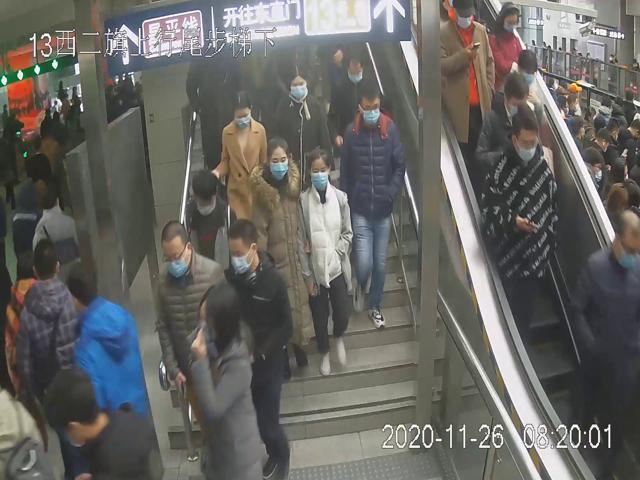person: (474, 103, 561, 334), (227, 216, 292, 480), (340, 80, 406, 328), (187, 280, 261, 480), (248, 134, 306, 382), (156, 216, 226, 412), (298, 142, 351, 375), (210, 85, 268, 225), (271, 65, 335, 182), (475, 71, 535, 183), (182, 164, 232, 267)
